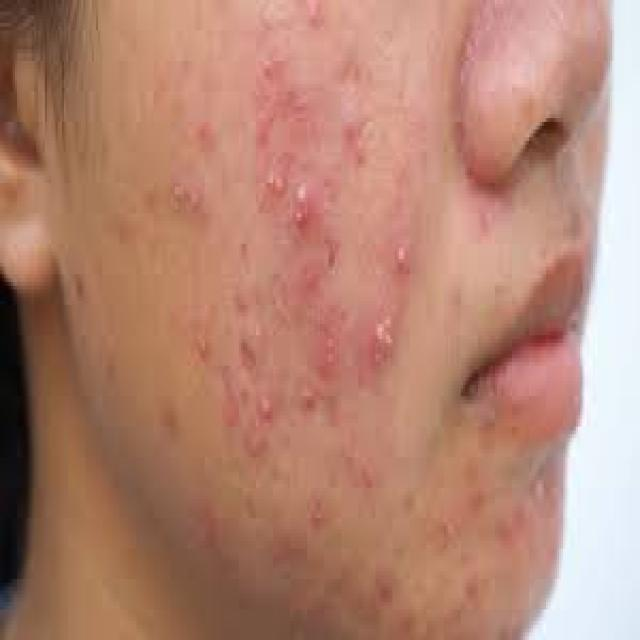Acne: (169, 170, 205, 220), (370, 311, 398, 375), (255, 164, 287, 214), (318, 326, 339, 381), (292, 178, 311, 233), (304, 492, 328, 530), (392, 239, 412, 277), (301, 262, 321, 296), (257, 391, 275, 427), (305, 0, 325, 31), (342, 117, 360, 150), (259, 56, 275, 82)
